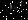person: (12, 3, 19, 13), (21, 2, 26, 15)
